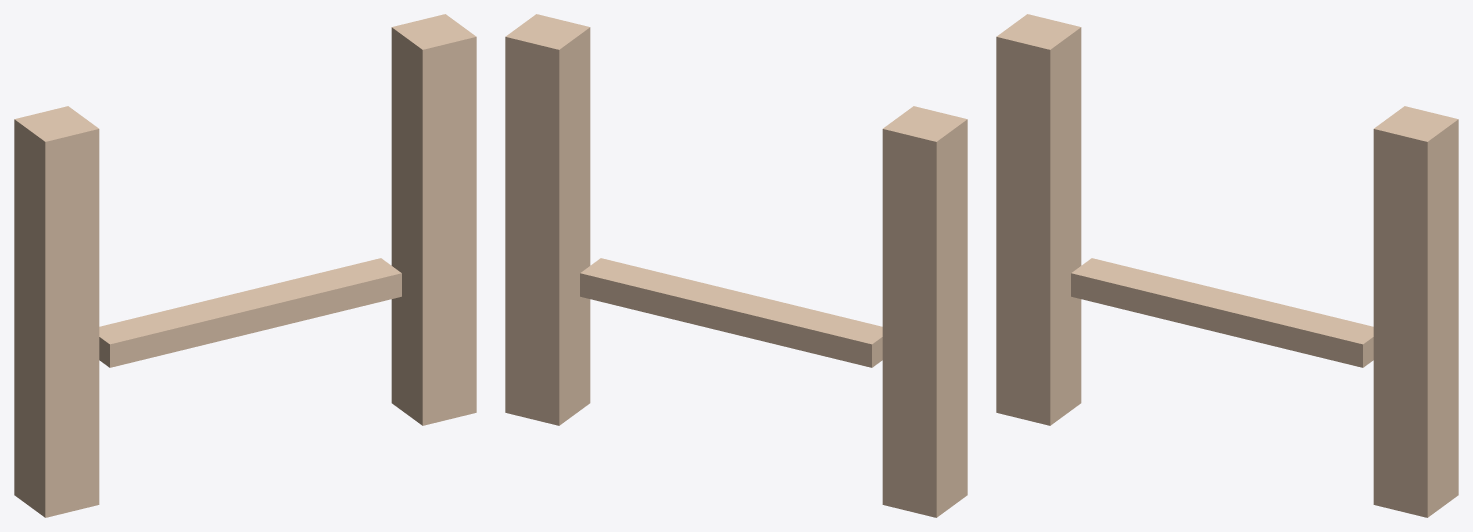
File: gate.glb
3 renders of one model, left to right at view 1: azimuth 30°, elevation 25°; view 2: azimuth 150°, elevation 25°; view 3: azimuth 330°, elevation 25°, orthographic.
Parts seen in each view (by area): view 1: post-0.42, post0.42, gate; view 2: post-0.42, post0.42, gate; view 3: post0.42, post-0.42, gate.
Part boxes in pixels (bbox=[...]): post-0.42: bbox=[14, 106, 99, 517]; post0.42: bbox=[391, 14, 476, 425]; gate: bbox=[99, 258, 401, 367]; post-0.42: bbox=[882, 106, 967, 517]; post0.42: bbox=[505, 14, 590, 425]; gate: bbox=[580, 258, 882, 367]; post0.42: bbox=[1373, 106, 1458, 517]; post-0.42: bbox=[996, 14, 1081, 425]; gate: bbox=[1071, 258, 1373, 367].
Size of the model in its own units: 0.96 by 0.8 by 0.12.
